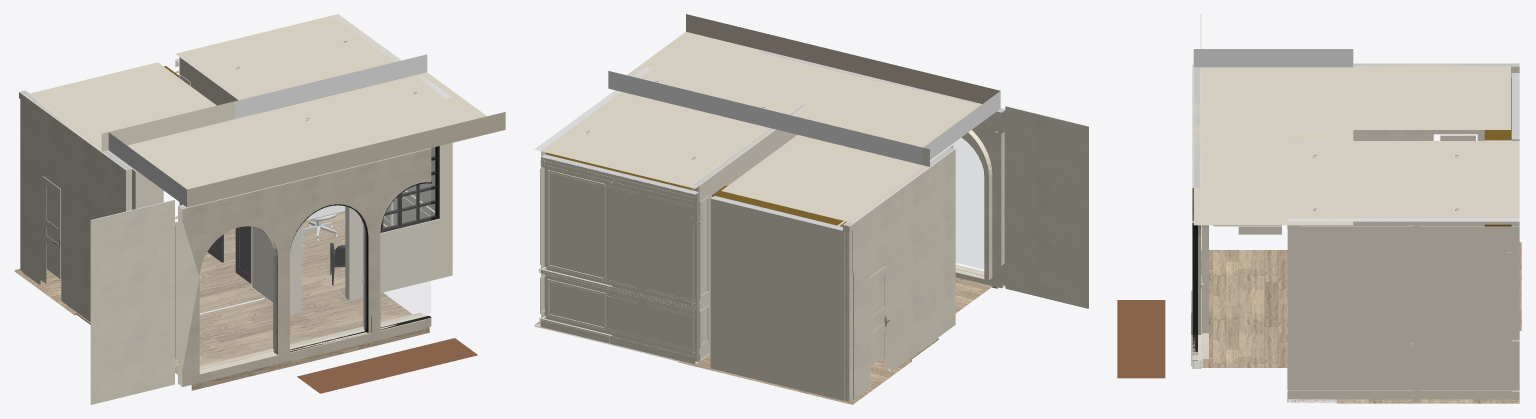
Rendered from office-east-7e469f4c9ddc.glb.
3 renders of one model, left to right at view 1: azimuth 30°, elevation 25°; view 2: azimuth 150°, elevation 25°; view 3: azimuth 270°, elevation 25°, orthographic. The views are drawn at different scales.
Visible parts, largest first — view 1: office-east-look-dbd60ee5c3733ed6, office-east-look-c9e78b9ec1bb39cd, office-east-look-d5a4a1b5d3594c04, office-east-look-6a051330000fbca1, office-east-look-2575515a05775d9e, office-east-2575515a05775d9e, office-east-look-38561c12898e4d43, office-east-look-c02a36d0521470a9, office-east-look-c374268555806af8, office-east-7dc307bfa7ee071d, office-east-look-5cbcc744e6f960f3, office-east-dbd60ee5c3733ed6 (+15 smaller); view 2: office-east-look-dbd60ee5c3733ed6, office-east-look-19647d6da46c2b80, office-east-19647d6da46c2b80, office-east-look-6a051330000fbca1, office-east-look-d5a4a1b5d3594c04, office-east-2575515a05775d9e, office-east-look-2575515a05775d9e, office-east-72f8f5982ac3dc36, office-east-look-38561c12898e4d43, office-east-look-c9e78b9ec1bb39cd, office-east-dbd60ee5c3733ed6, office-east-look-1109284a531c9f8c (+16 smaller); view 3: office-east-6a1144f4e43410bb, office-east-look-dbd60ee5c3733ed6, office-east-2575515a05775d9e, office-east-look-2575515a05775d9e, office-east-look-c374268555806af8, office-east-dbd60ee5c3733ed6, office-east-look-aee2d046b0172b1e, office-east-2c29ddcb8551cb02, office-east-7dc307bfa7ee071d, office-east-look-c9e78b9ec1bb39cd, office-east-e54d813e60c9e7c4, office-east-look-6a051330000fbca1 (+13 smaller).
Boxes of the visible parts, <box> form: office-east-look-dbd60ee5c3733ed6: <box>108,54,505,207</box>; office-east-look-c9e78b9ec1bb39cd: <box>178,148,431,386</box>; office-east-look-d5a4a1b5d3594c04: <box>90,199,174,404</box>; office-east-look-6a051330000fbca1: <box>19,90,136,321</box>; office-east-look-2575515a05775d9e: <box>24,62,235,151</box>; office-east-2575515a05775d9e: <box>175,14,420,113</box>; office-east-look-38561c12898e4d43: <box>200,226,276,369</box>; office-east-look-c02a36d0521470a9: <box>290,205,366,347</box>; office-east-look-c374268555806af8: <box>175,292,429,390</box>; office-east-7dc307bfa7ee071d: <box>293,97,445,313</box>; office-east-look-5cbcc744e6f960f3: <box>380,183,430,324</box>; office-east-dbd60ee5c3733ed6: <box>264,74,445,137</box>; office-east-look-dbd60ee5c3733ed6: <box>608,14,1000,165</box>; office-east-look-19647d6da46c2b80: <box>710,195,842,400</box>; office-east-19647d6da46c2b80: <box>541,154,698,364</box>; office-east-look-6a051330000fbca1: <box>843,144,955,401</box>; office-east-look-d5a4a1b5d3594c04: <box>1005,106,1088,308</box>; office-east-2575515a05775d9e: <box>541,91,774,188</box>; office-east-look-2575515a05775d9e: <box>721,135,929,222</box>; office-east-72f8f5982ac3dc36: <box>692,104,807,361</box>; office-east-look-38561c12898e4d43: <box>930,138,983,269</box>; office-east-look-c9e78b9ec1bb39cd: <box>756,50,1005,288</box>; office-east-dbd60ee5c3733ed6: <box>615,67,793,129</box>; office-east-look-1109284a531c9f8c: <box>955,130,992,280</box>; office-east-6a1144f4e43410bb: <box>1287,218,1519,402</box>; office-east-look-dbd60ee5c3733ed6: <box>1193,49,1353,225</box>; office-east-2575515a05775d9e: <box>1353,141,1519,221</box>; office-east-look-2575515a05775d9e: <box>1353,63,1510,129</box>; office-east-look-c374268555806af8: <box>1201,250,1287,367</box>; office-east-dbd60ee5c3733ed6: <box>1287,141,1353,221</box>; office-east-look-aee2d046b0172b1e: <box>1117,300,1165,378</box>; office-east-2c29ddcb8551cb02: <box>1287,390,1519,399</box>; office-east-7dc307bfa7ee071d: <box>1287,144,1295,390</box>; office-east-look-c9e78b9ec1bb39cd: <box>1192,64,1201,368</box>; office-east-e54d813e60c9e7c4: <box>1300,226,1519,234</box>; office-east-look-6a051330000fbca1: <box>1353,63,1519,140</box>.
Bounding box in the file's own units: 7.25 × 3.4 × 6.07.
Materials: 24 (4 with a texture image).
